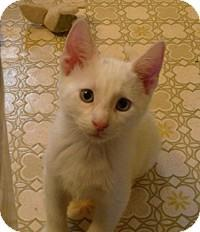siamese: (53, 16, 176, 152)
